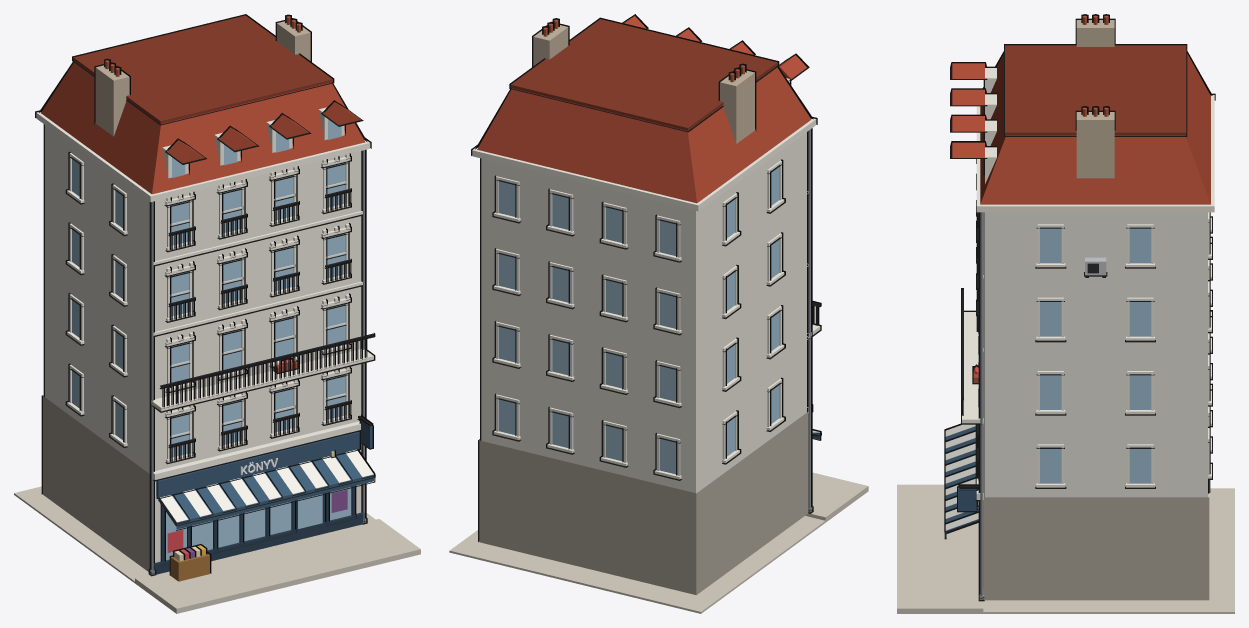
File: Dukkan_genel_konyv.fbx
3 views of the same model, side by side, from view 1: azimuth 30°, elevation 25°; view 2: azimuth 150°, elevation 25°; view 3: azimuth 270°, elevation 25° (orthographic). The views are drawn at different scales.
Visible parts, largest first — view 1: Dukkan_genel_konyv; view 2: Dukkan_genel_konyv; view 3: Dukkan_genel_konyv.
Boxes of the visible parts, box(x1,y1,x2,y2) form: Dukkan_genel_konyv: box(14, 14, 420, 613); Dukkan_genel_konyv: box(449, 14, 868, 613); Dukkan_genel_konyv: box(897, 14, 1234, 613).
Size of the model in its own units: 10.86 by 20.06 by 12.52.
